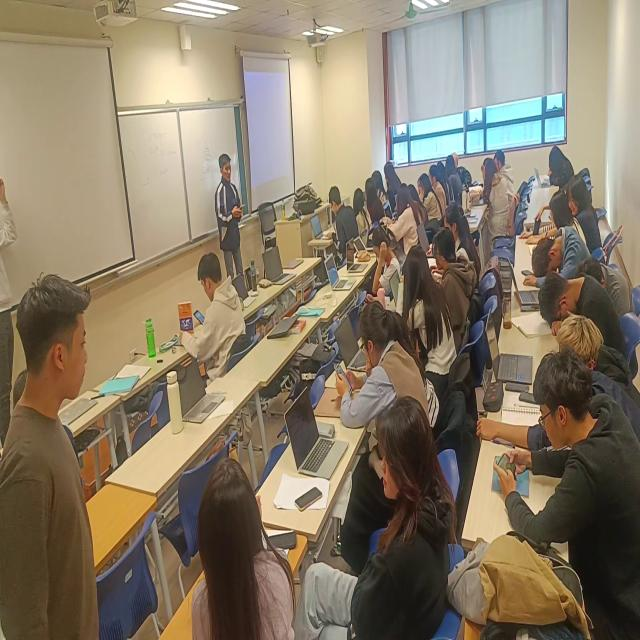raise_head: (183, 458, 307, 640)
read: (309, 183, 362, 270)
sleep: (534, 267, 632, 355), (523, 220, 605, 296), (575, 253, 640, 327)
stand: (1, 250, 103, 640), (211, 151, 254, 305), (1, 173, 21, 464)
using_computer: (430, 204, 484, 287)
using_phone: (493, 350, 640, 633), (171, 240, 259, 398), (362, 220, 404, 311)
